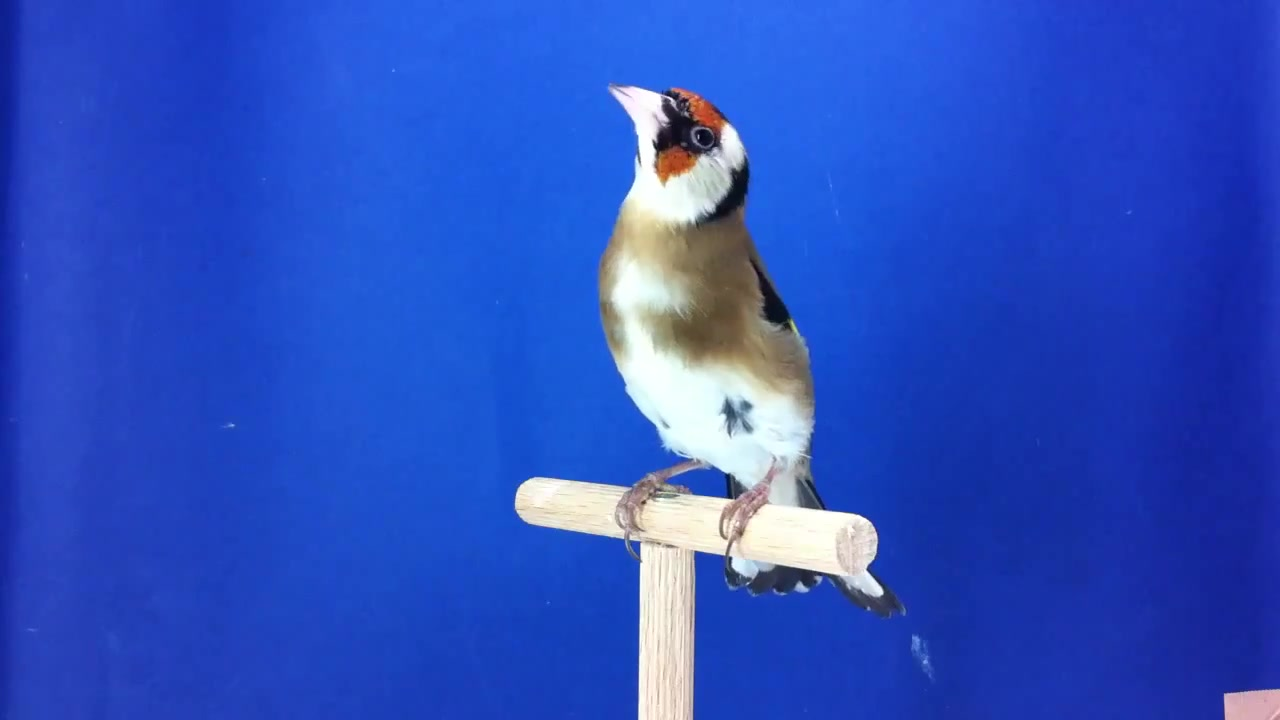bird: (593, 79, 904, 620)
